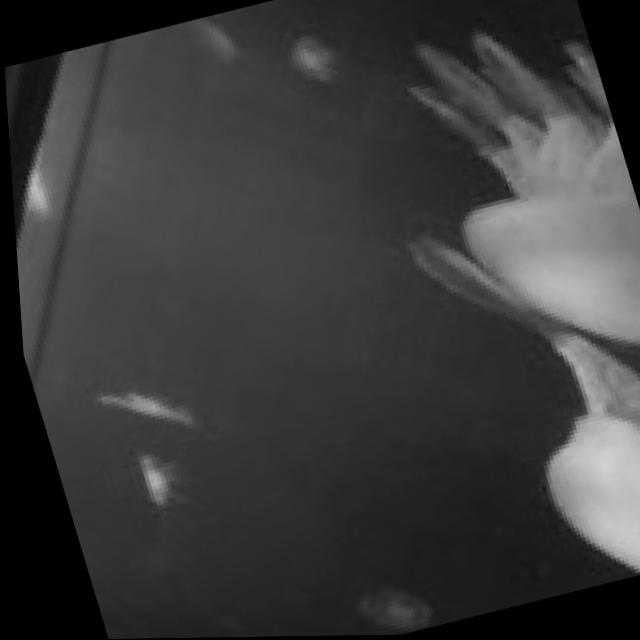Jellyfish: (346, 0, 640, 390), (465, 305, 640, 600)
